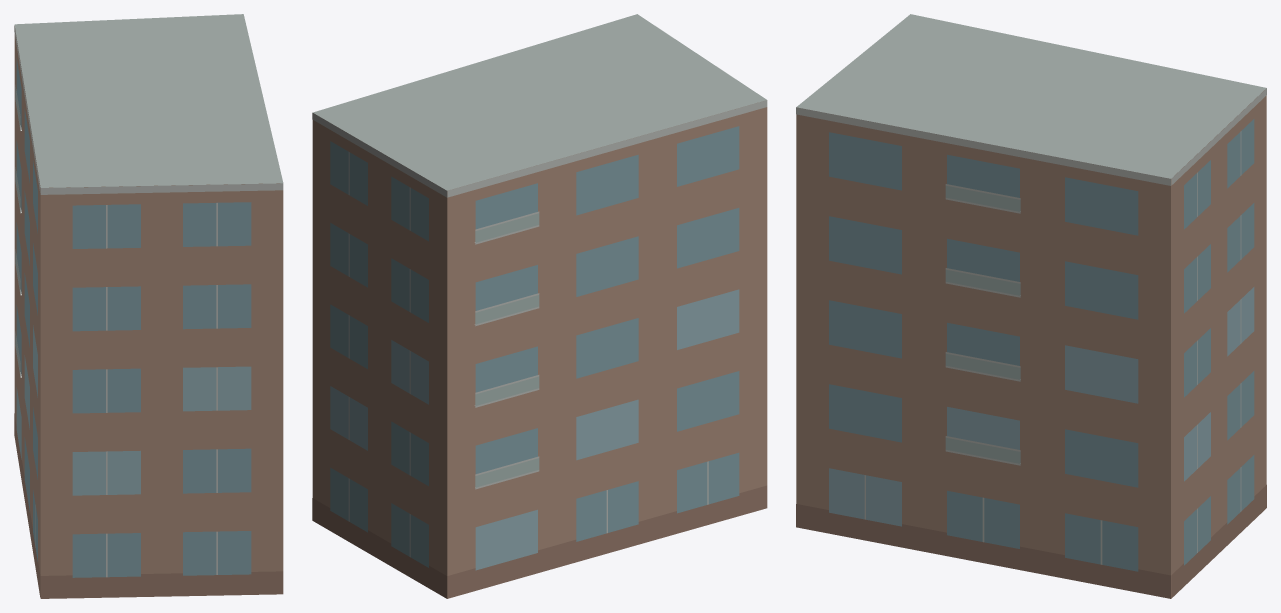
File: survey-upis-32734781.glb
The picture shows the model from 3 angles, left to right: view 1: azimuth 30°, elevation 25°; view 2: azimuth 150°, elevation 25°; view 3: azimuth 270°, elevation 25°; orthographic projection. The views are drawn at different scales.
Visible parts, largest first — view 1: survey-upis-32734781.tmp; view 2: survey-upis-32734781.tmp; view 3: survey-upis-32734781.tmp.
Boxes of the visible parts, box(x1,y1,x2,y2) form: survey-upis-32734781.tmp: box(14, 14, 283, 598); survey-upis-32734781.tmp: box(312, 14, 767, 598); survey-upis-32734781.tmp: box(796, 14, 1266, 598).
Size of the model in its own units: 12.05 by 14.3 by 14.53.
